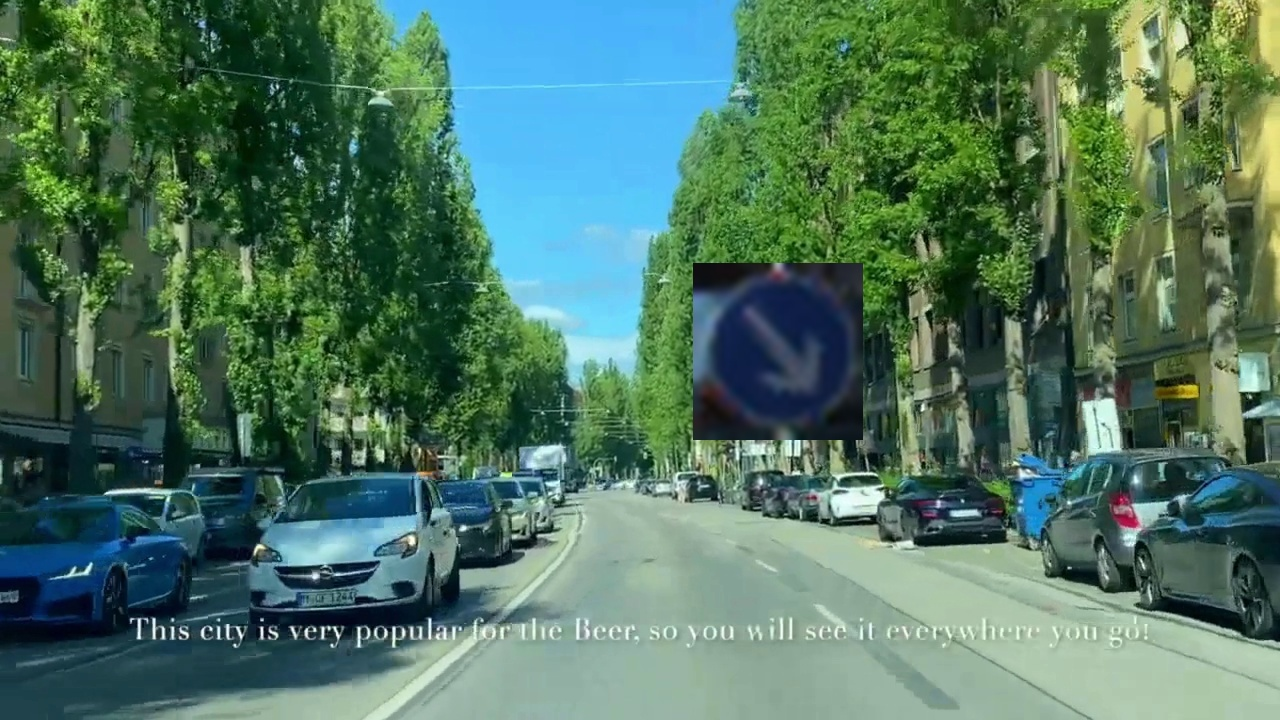Keep right: (693, 263, 863, 440)
